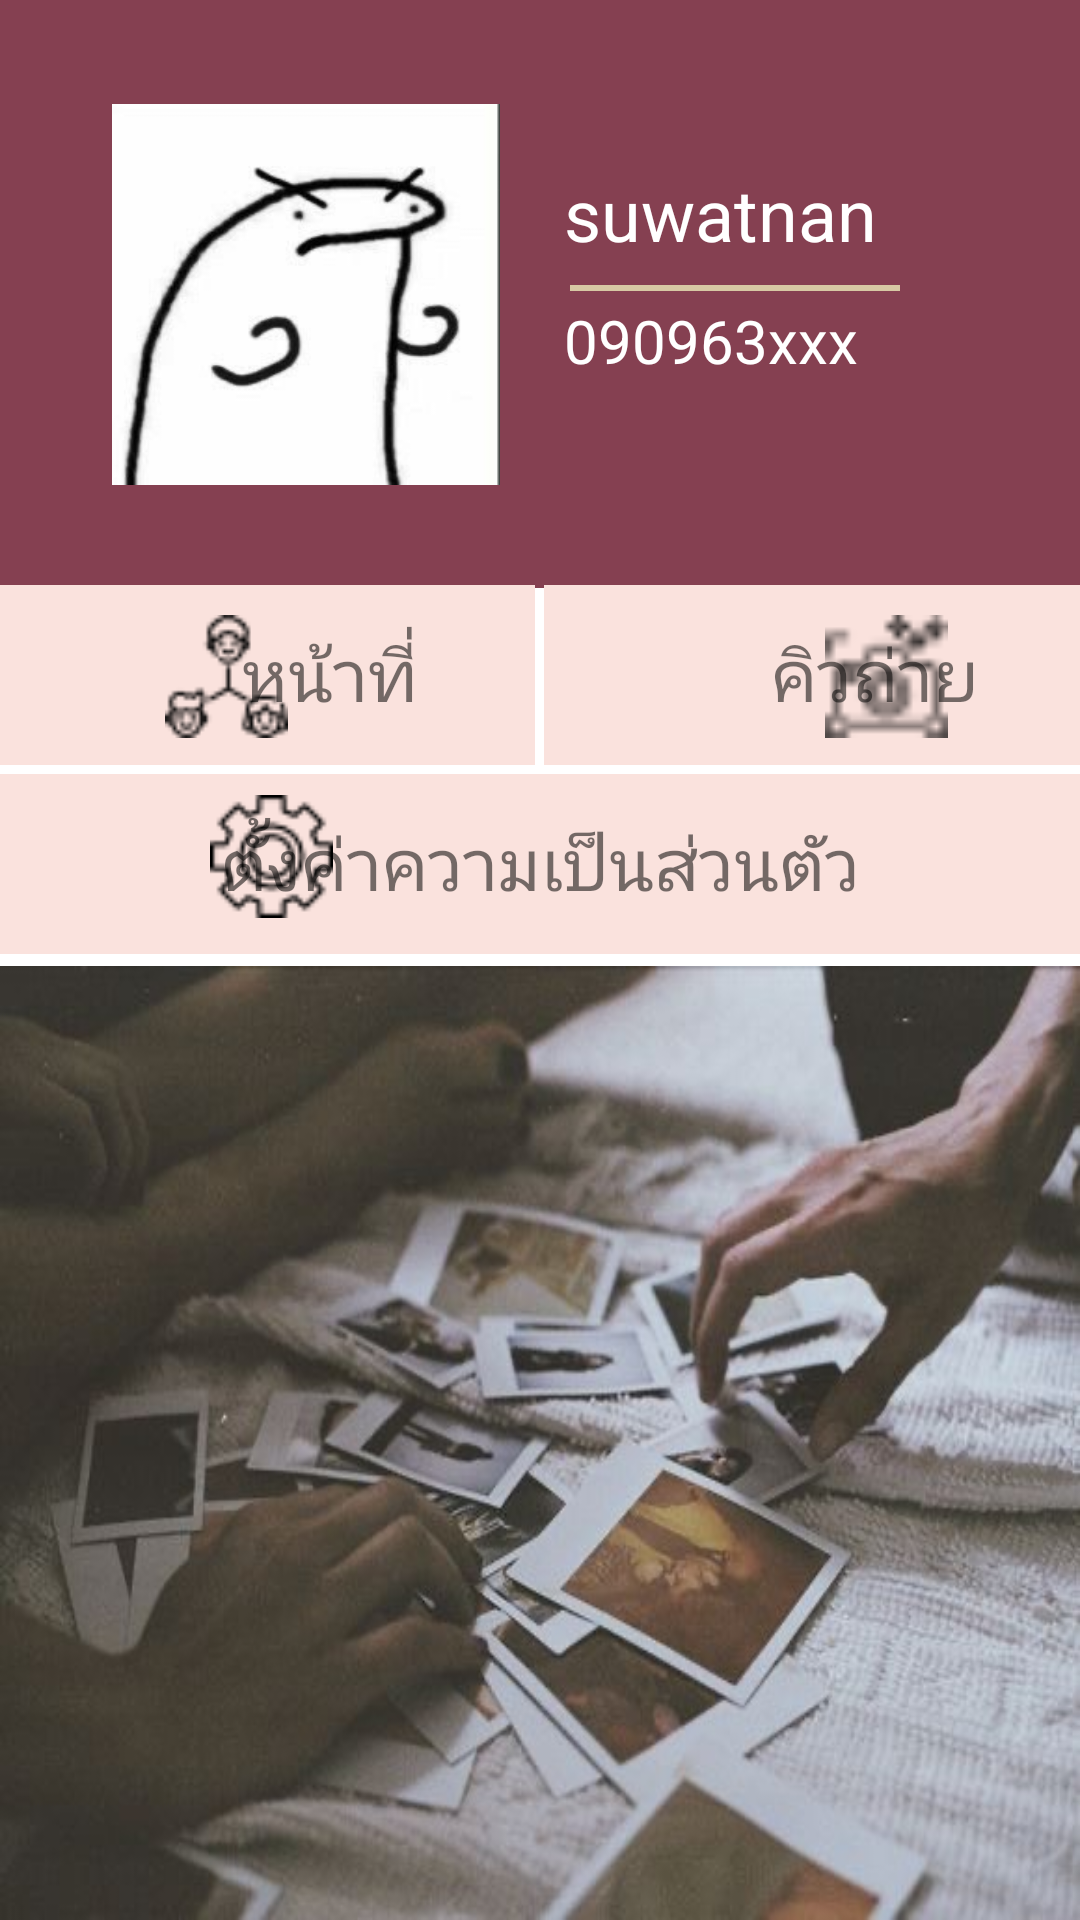

Point at icon controls on the screen. Image size 1080px x 1920px, points as (x=x, y=y).
gear: (x=276, y=856)
